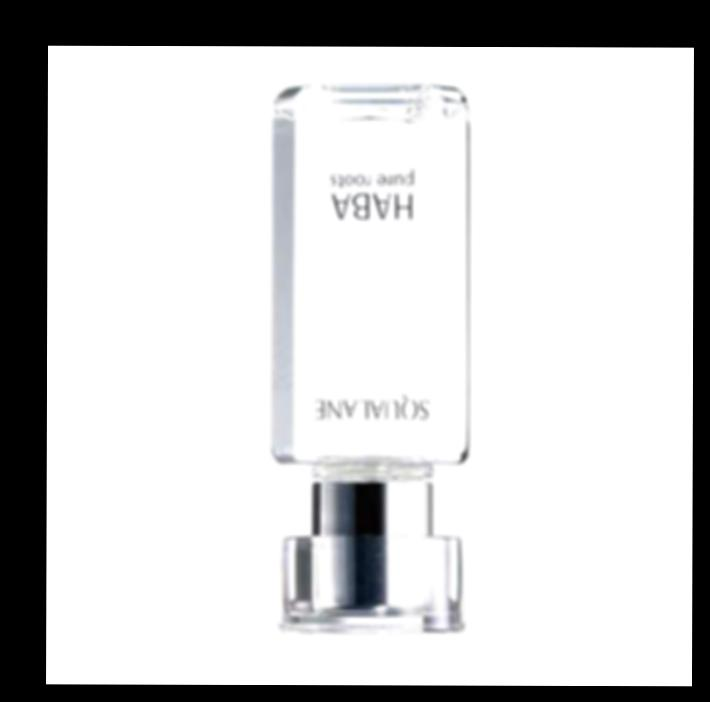cosmetic: (269, 86, 471, 634)
